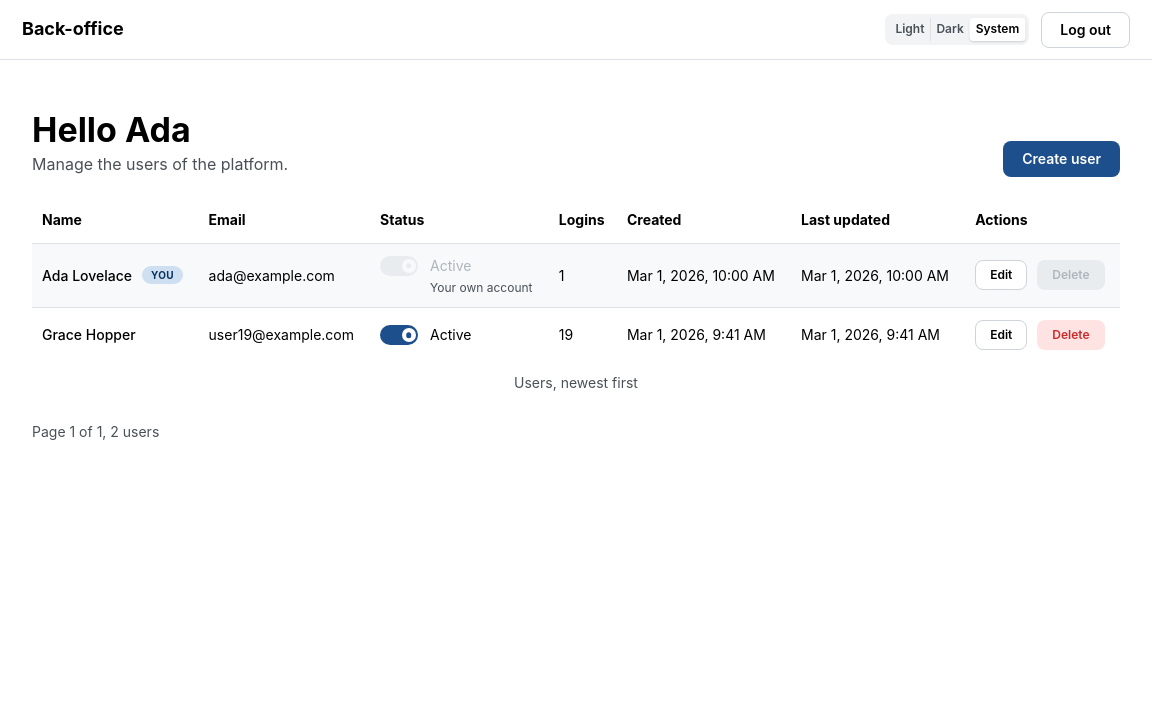
Test: dashboard: review follow-ups › DASH-15 a failed background refresh keeps the rows and warns that they may be stale
The width and height of the screenshot is (1152, 720).
Expected: the table is shown, top-left (32, 197), bottom-right (1120, 394)
# A successful change triggers a refresh, which fails.
Click the switch named "Active: Grace Hopper".
click(399, 335)  # box top-left (380, 325), bottom-right (472, 345)
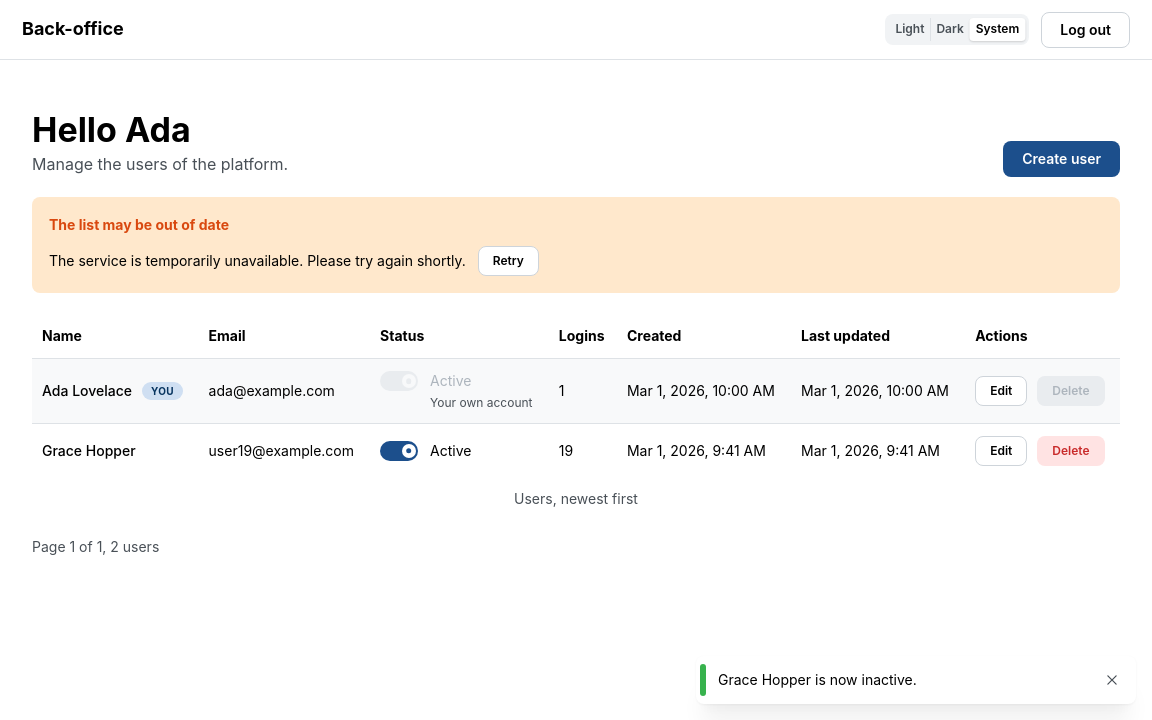
Expected: the column heading "Grace Hopper" is shown, top-left (32, 423), bottom-right (199, 478)
Expected: the text "The list may be out of date" is shown, top-left (49, 214), bottom-right (229, 236)
Click the button "Retry".
click(508, 261)  # box top-left (478, 246), bottom-right (539, 276)
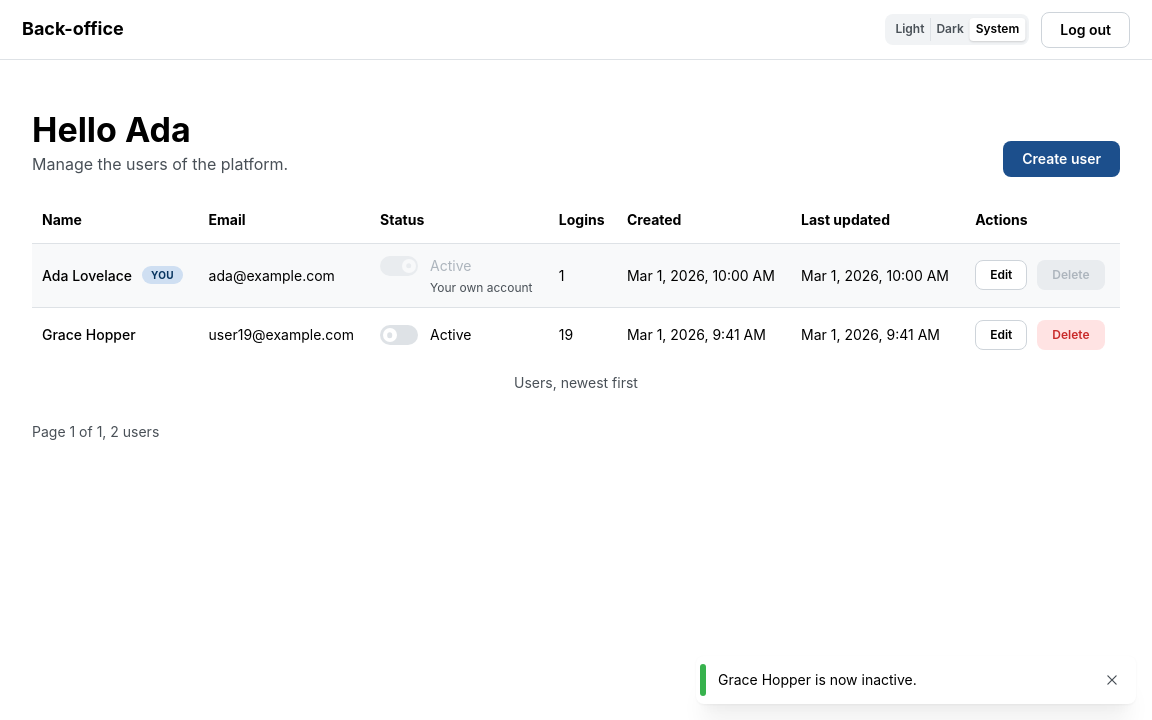
Expected: the text "The list may be out of date" is gone
